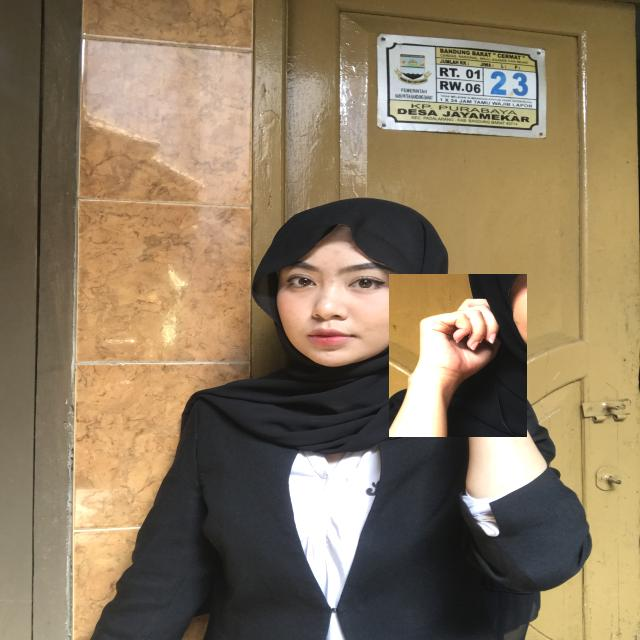ibu: (389, 274, 527, 437)
